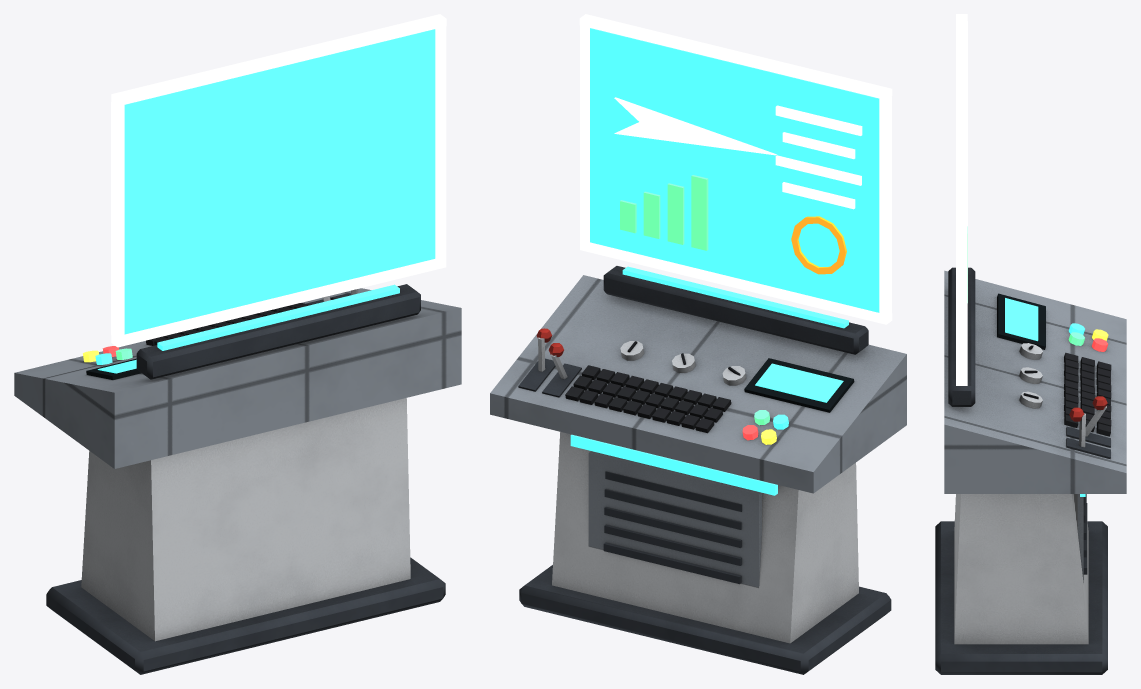
The model's file is consola_control_hangar.fbx.
3 renders of one model, left to right at view 1: azimuth 30°, elevation 25°; view 2: azimuth 150°, elevation 25°; view 3: azimuth 270°, elevation 25°, orthographic. The views are drawn at different scales.
Parts seen in each view (by area): view 1: consola_control_hangar, consola_control_hangar_holograma_neon, consola_control_hangar_holograma_marco_neon, consola_control_hangar_neon; view 2: consola_control_hangar, consola_control_hangar_holograma_neon, consola_control_hangar_holograma_marco_neon, consola_control_hangar_neon, consola_control_hangar_verde_neon, consola_control_hangar_pantalla_neon, consola_control_hangar_naranja_neon; view 3: consola_control_hangar, consola_control_hangar_holograma_marco_neon, consola_control_hangar_pantalla_neon.
Part boxes in pixels (x1,y1,x2,y2): consola_control_hangar: [14, 284, 461, 674]; consola_control_hangar_holograma_neon: [124, 29, 435, 334]; consola_control_hangar_holograma_marco_neon: [111, 14, 446, 347]; consola_control_hangar_neon: [95, 284, 399, 364]; consola_control_hangar: [490, 266, 906, 674]; consola_control_hangar_holograma_neon: [590, 28, 879, 312]; consola_control_hangar_holograma_marco_neon: [579, 14, 892, 324]; consola_control_hangar_neon: [570, 266, 848, 495]; consola_control_hangar_verde_neon: [620, 175, 769, 425]; consola_control_hangar_pantalla_neon: [755, 363, 843, 402]; consola_control_hangar_naranja_neon: [791, 216, 846, 274]; consola_control_hangar: [935, 267, 1126, 674]; consola_control_hangar_holograma_marco_neon: [956, 14, 967, 385]; consola_control_hangar_pantalla_neon: [1005, 298, 1038, 341].
Size of the model in its own units: 1.9 by 3 by 0.9978.
Materials: 2 (2 with a texture image).
